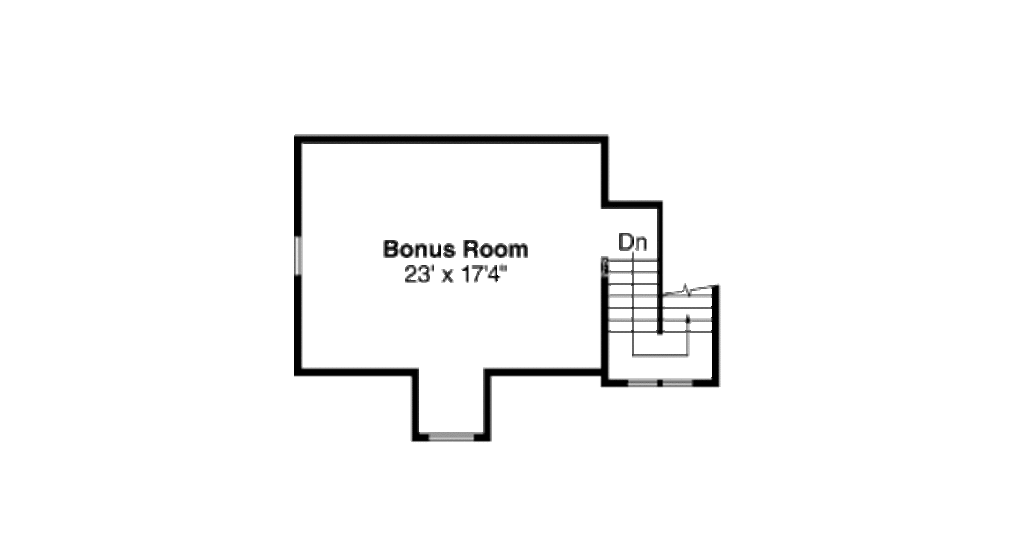stairs: (589, 252, 722, 367)
window: (425, 428, 480, 445), (288, 232, 306, 280), (628, 377, 694, 388)
